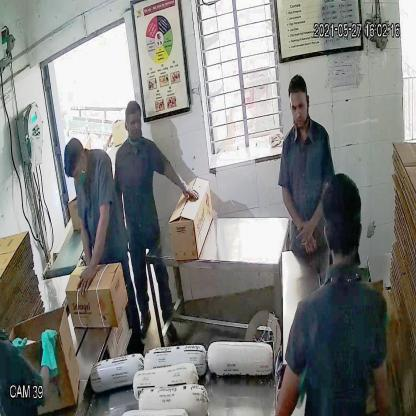no_goggles: (287, 94, 314, 116)
